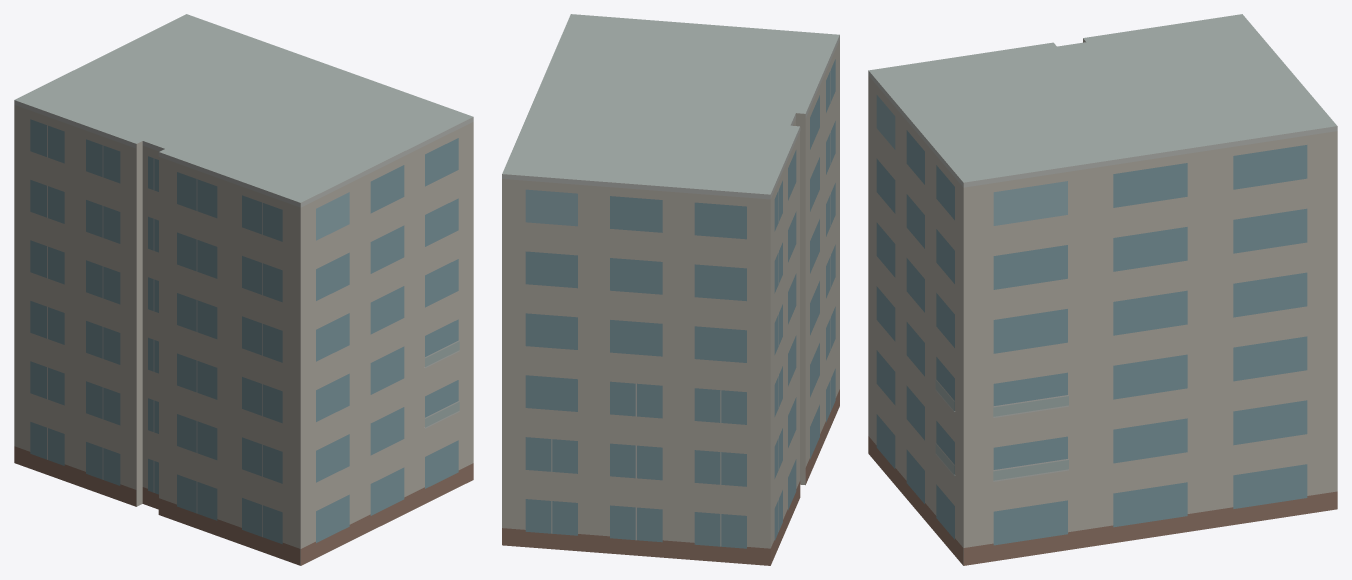
Rendered from survey-upis-32737997.glb.
The picture shows the model from 3 angles, left to right: view 1: azimuth 30°, elevation 25°; view 2: azimuth 150°, elevation 25°; view 3: azimuth 270°, elevation 25°; orthographic projection. The views are drawn at different scales.
Visible parts, largest first — view 1: survey-upis-32737997.tmp; view 2: survey-upis-32737997.tmp; view 3: survey-upis-32737997.tmp.
Boxes of the visible parts, left/top/right/bottom form: survey-upis-32737997.tmp: left=14, top=14, right=473, bottom=565; survey-upis-32737997.tmp: left=502, top=14, right=839, bottom=565; survey-upis-32737997.tmp: left=868, top=14, right=1337, bottom=565.
Size of the model in its own units: 17.66 by 18.7 by 20.75.
